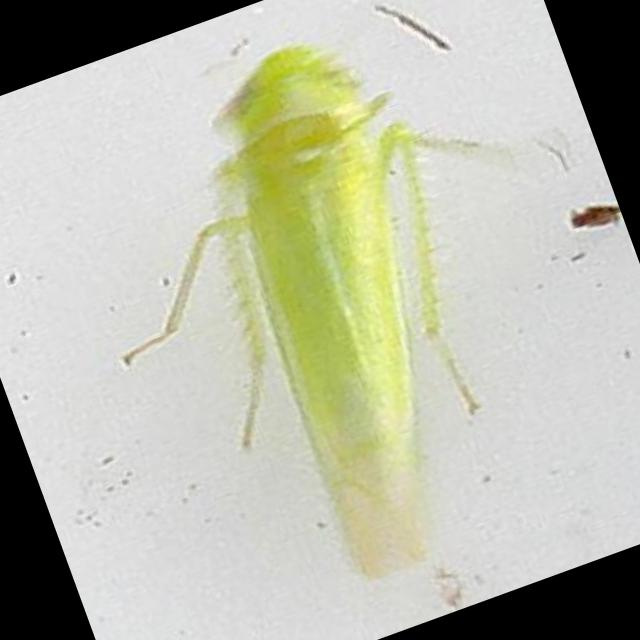green-leafhopper: (124, 47, 479, 575)
